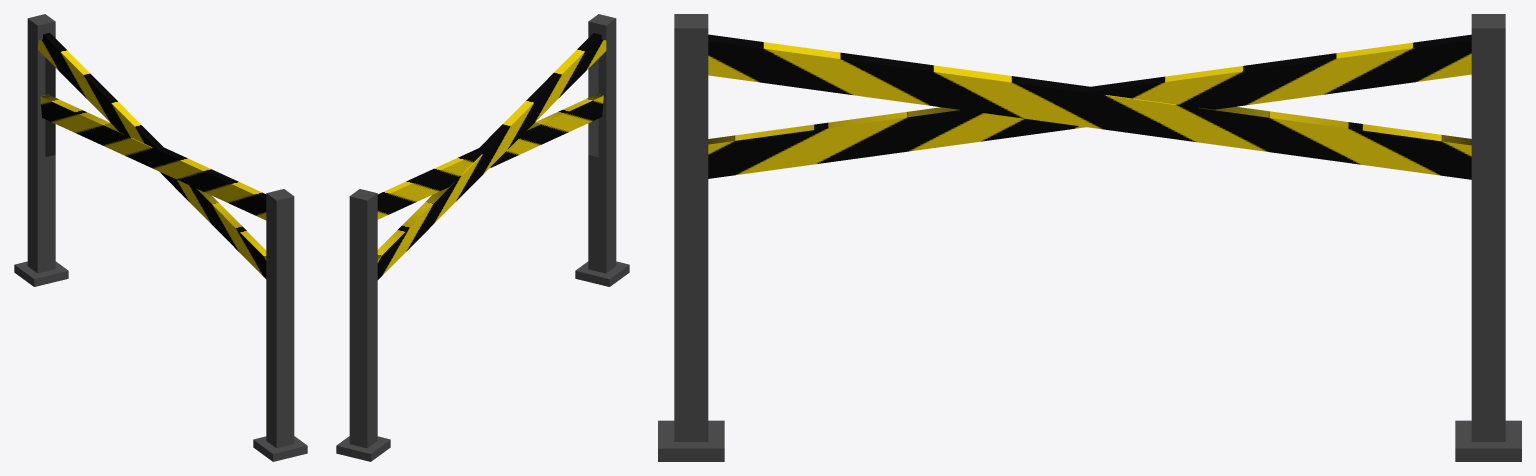
File: LineCross.fbx
3 views of the same model, side by side, from view 1: azimuth 30°, elevation 25°; view 2: azimuth 150°, elevation 25°; view 3: azimuth 270°, elevation 25° (orthographic). The views are drawn at different scales.
Parts seen in each view (by area): view 1: Cube.003, Cube.005, Cube.004; view 2: Cube.003, Cube.005, Cube.004; view 3: Cube.003, Cube.005, Cube.004.
Part boxes in pixels (x1,y1,x2,y2): Cube.003: (14, 14, 307, 461); Cube.005: (40, 94, 266, 220); Cube.004: (37, 32, 266, 278); Cube.003: (336, 14, 629, 461); Cube.005: (377, 33, 606, 279); Cube.004: (377, 94, 603, 219); Cube.003: (658, 14, 1521, 461); Cube.005: (708, 34, 1471, 179); Cube.004: (708, 34, 1471, 178).
Size of the model in its own units: 1001 by 7078 by 12984.
